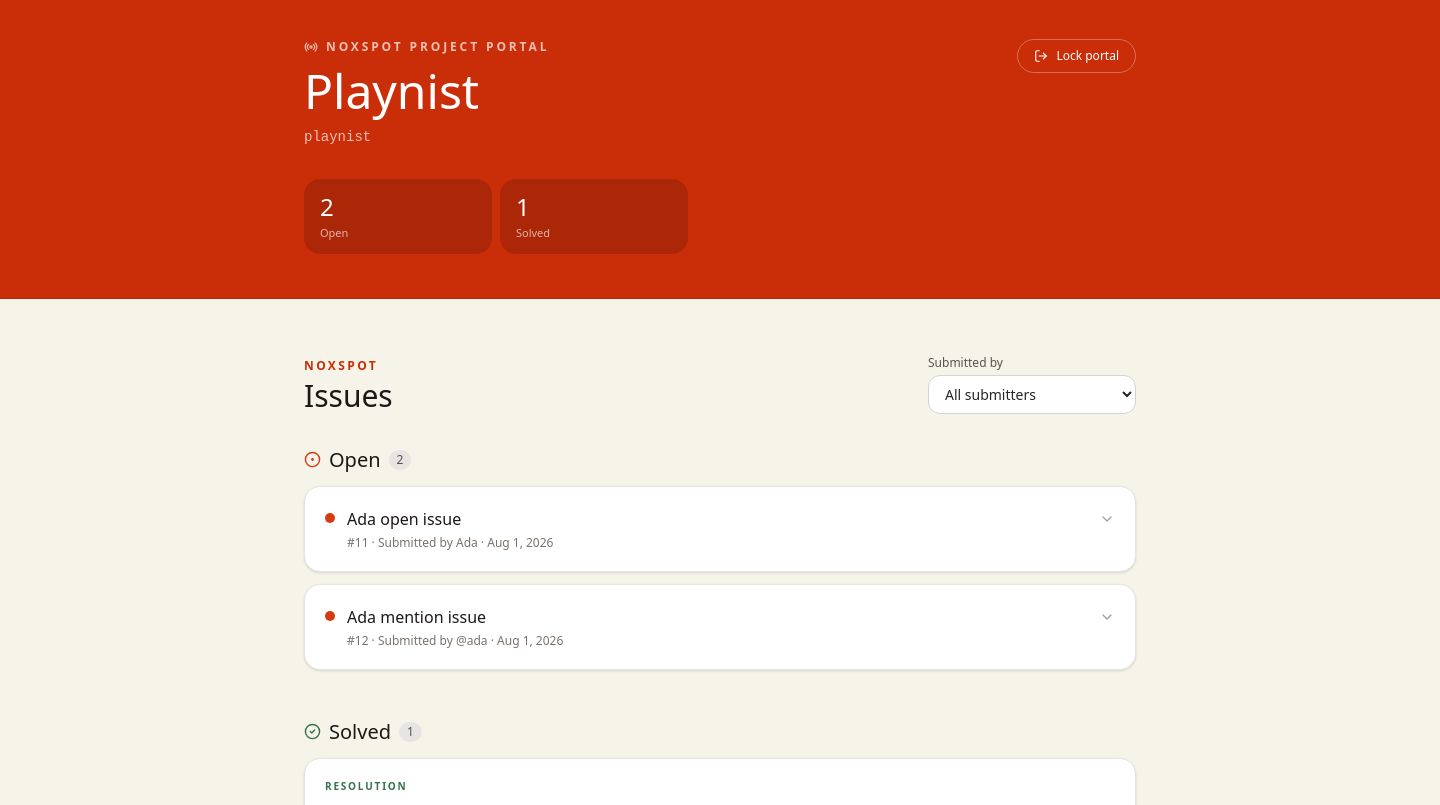
external project portal issue history › filters open and solved issues by the captured submitters
Select "Ada" in the dropdown named "Filter by submitter" at (1032, 394), box left=928, top=374, right=1136, bottom=414
(page scrolled)
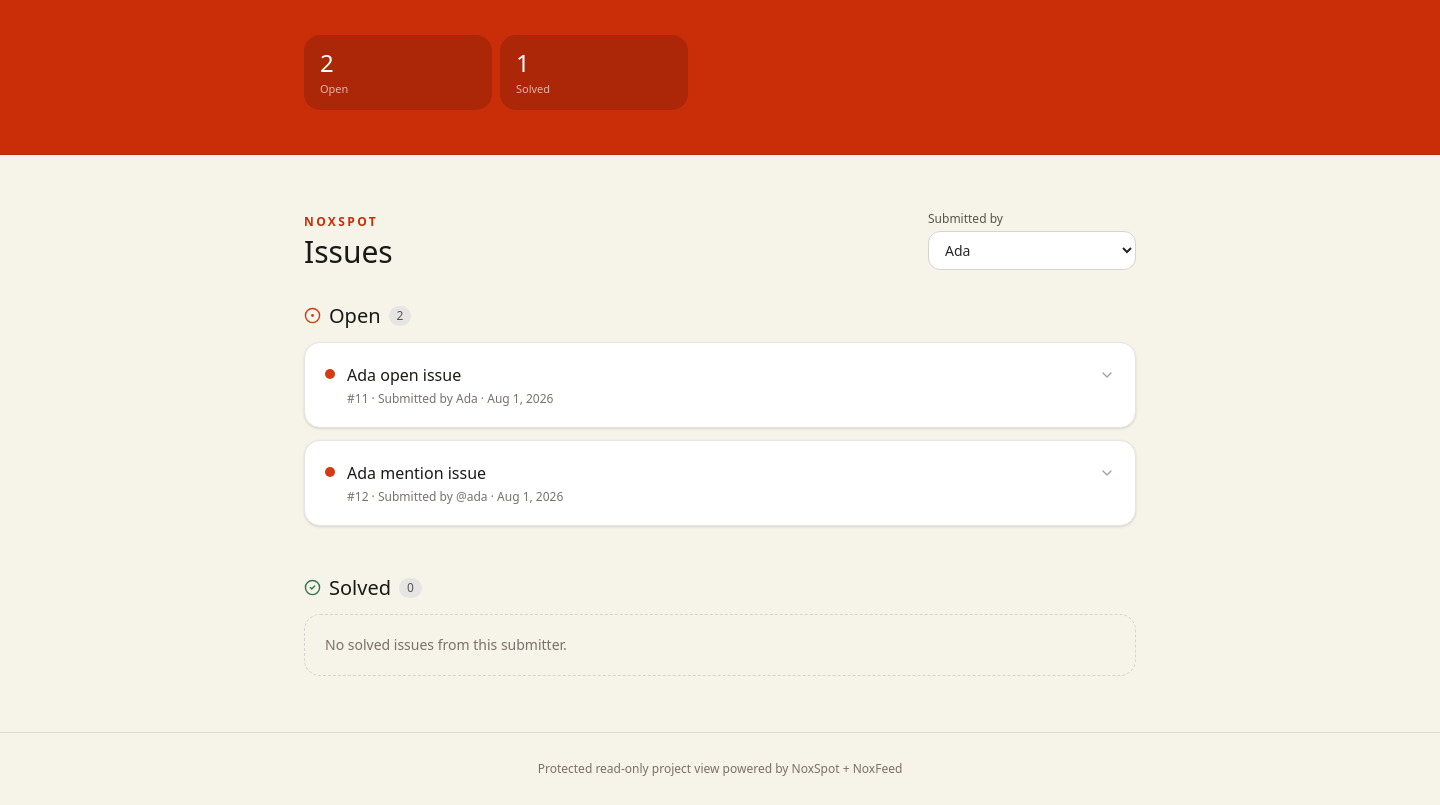
Expected: the heading "Ada open issue" is shown, left=347, top=364, right=461, bottom=386
Result: the text "No solved issues from this submitter." is shown at left=304, top=614, right=1136, bottom=676
